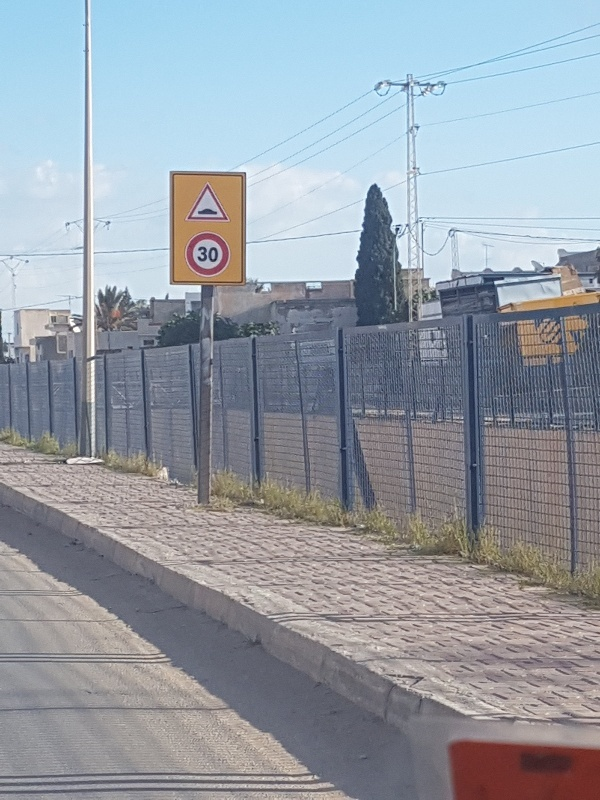text: (198, 246, 208, 263), (209, 246, 219, 263)
